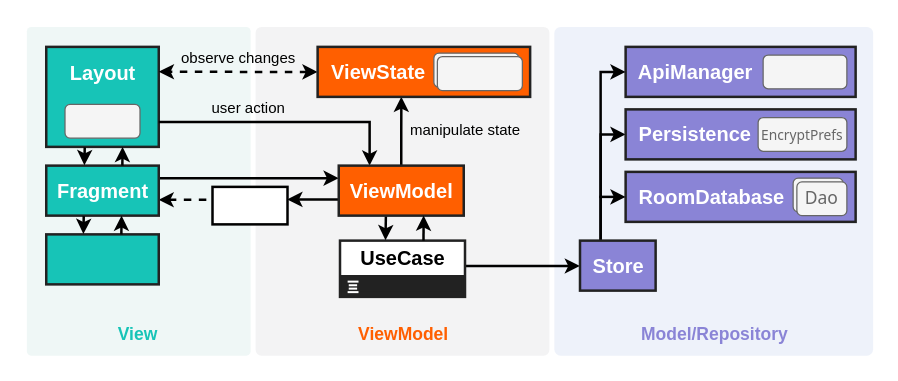
Some shapes in this 898 by 381 pixel diagram are drawn without their labels. The shapes that lost their labels are listed below. From the top down, each one's centre as x and y in pixels, then its label:
At (x=479, y=73): "LiveData".
At (x=804, y=71): "ApiService".
At (x=102, y=120): "binding".
At (x=249, y=205): "Event".
At (x=101, y=258): "Activity".
At (x=400, y=284): "Rx / coroutine".
